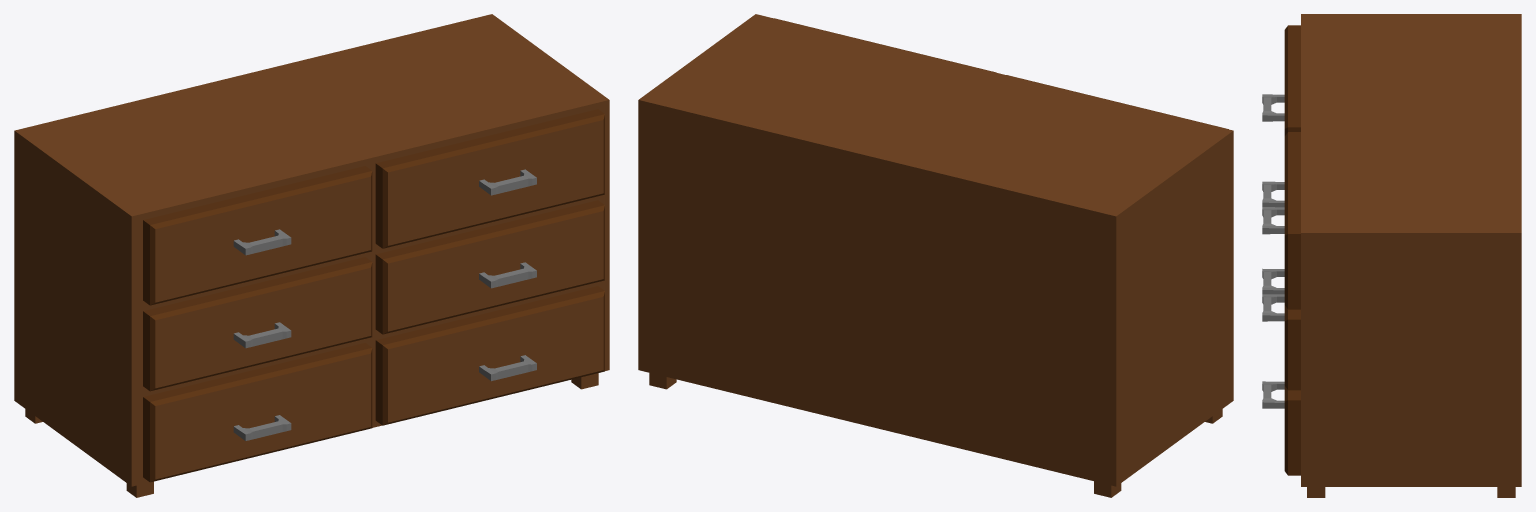
Rendered from ChestOfDrawers.fbx.
3 renders of one model, left to right at view 1: azimuth 30°, elevation 25°; view 2: azimuth 150°, elevation 25°; view 3: azimuth 270°, elevation 25°, orthographic. The views are drawn at different scales.
Parts seen in each view (by area): view 1: Prop_Cabinet_04; view 2: Prop_Cabinet_04; view 3: Prop_Cabinet_04.
Boxes of the visible parts, left/top/right/bottom form: Prop_Cabinet_04: left=14, top=14, right=609, bottom=497; Prop_Cabinet_04: left=638, top=14, right=1233, bottom=497; Prop_Cabinet_04: left=1262, top=14, right=1521, bottom=497.
Size of the model in its own units: 140 by 80 by 70.
1 material, 1 textured.
